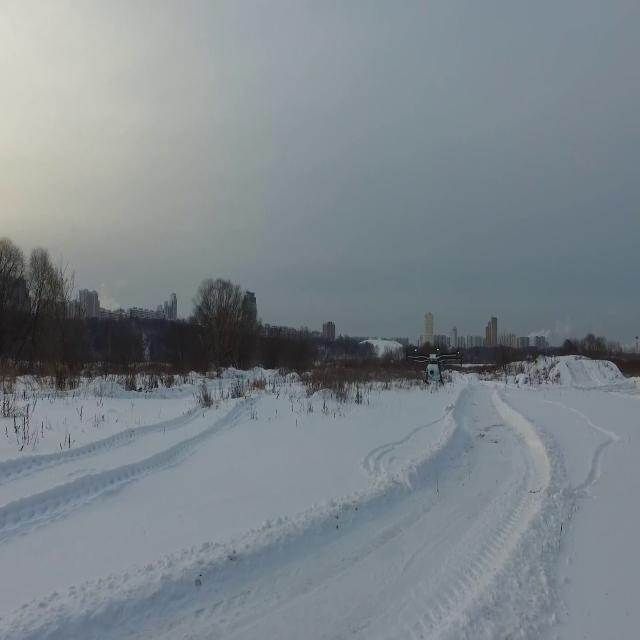Drons: (402, 338, 470, 388)
